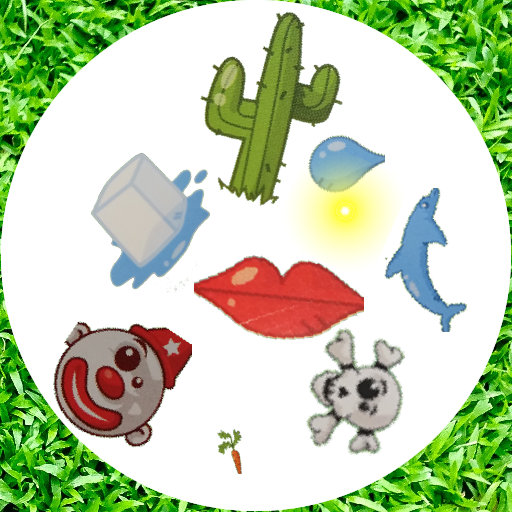cactus_icon: (162, 7, 367, 212)
carrot_icon: (211, 425, 260, 474)
clown_icon: (52, 312, 192, 452)
cube_icon: (61, 132, 222, 293)
dolphin_icon: (356, 188, 501, 333)
lips_icon: (194, 222, 364, 392)
raindrop_icon: (307, 125, 385, 203)
skull_icon: (287, 327, 428, 468)
